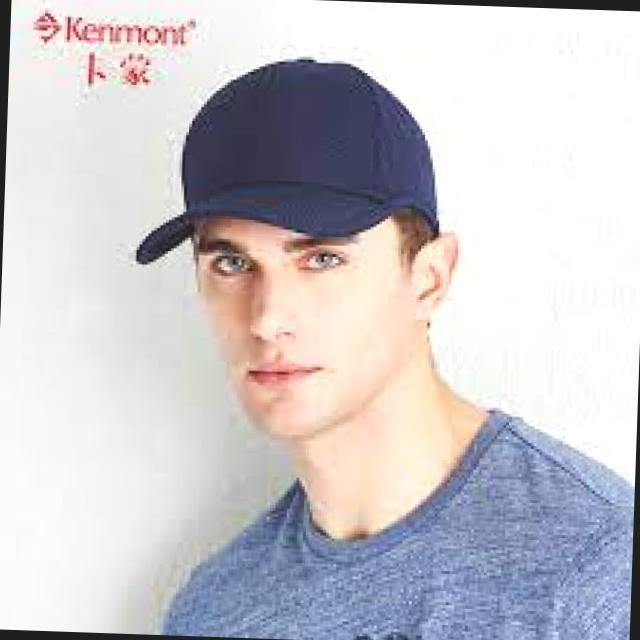cap: (104, 23, 473, 301)
